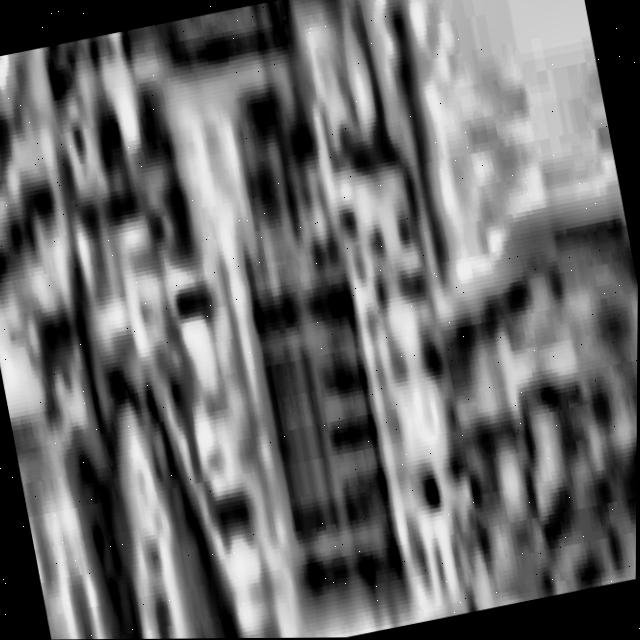dump_truck: (0, 0, 524, 640)
